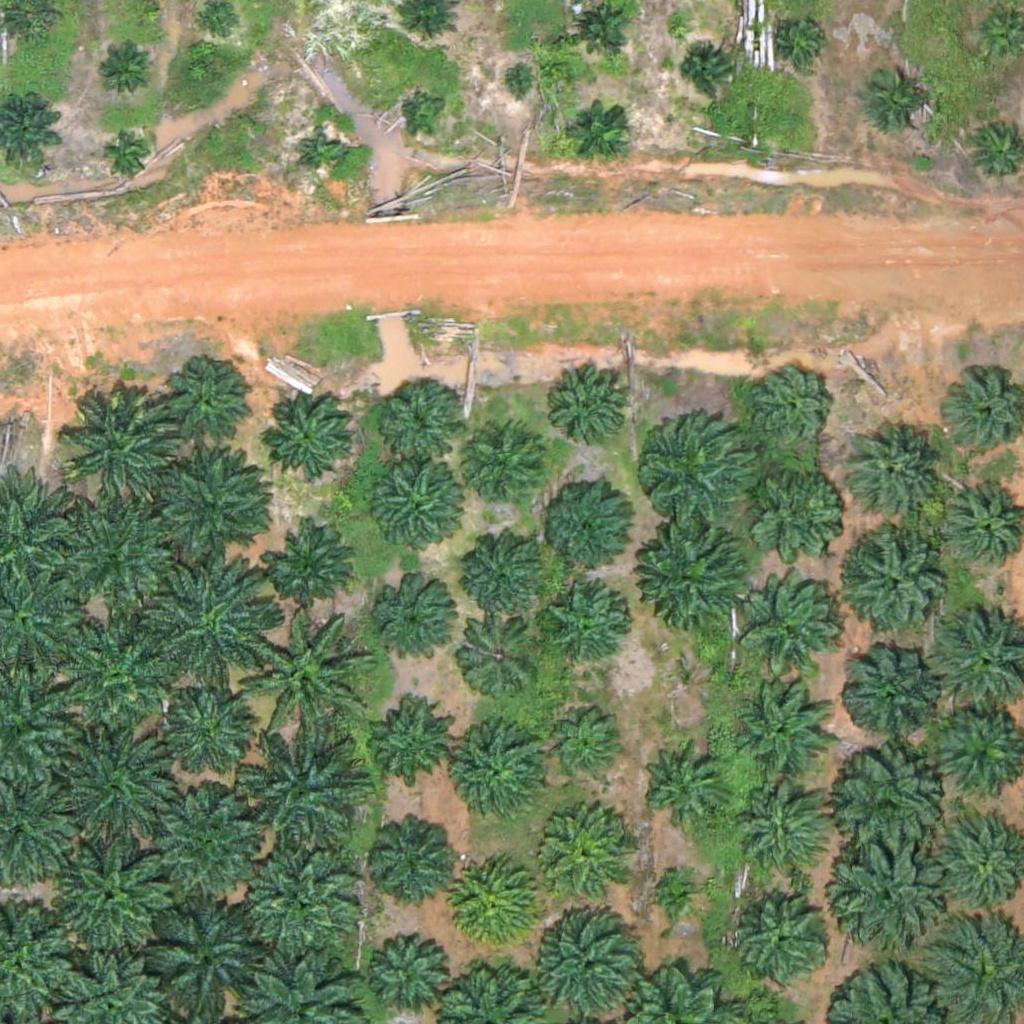Kelapa_Sawit: (60, 383, 185, 509), (52, 491, 177, 617), (57, 619, 182, 745), (57, 731, 182, 857), (51, 841, 176, 967), (142, 562, 267, 688), (142, 788, 267, 914), (139, 895, 264, 1021), (242, 731, 367, 857), (239, 615, 364, 741), (636, 409, 761, 535), (146, 441, 271, 566), (237, 834, 362, 959), (828, 841, 941, 954), (841, 530, 953, 643), (834, 749, 946, 862), (843, 422, 943, 523), (735, 889, 835, 990), (735, 785, 835, 886), (730, 679, 830, 780), (745, 576, 845, 677), (648, 527, 748, 628), (839, 642, 939, 742), (452, 727, 552, 827), (749, 454, 849, 554), (167, 687, 255, 775), (370, 466, 458, 554), (375, 581, 463, 669), (363, 693, 451, 781), (367, 810, 455, 898), (453, 858, 541, 946), (539, 816, 627, 904), (267, 519, 354, 608), (541, 482, 628, 571), (373, 374, 460, 462), (460, 528, 547, 616), (164, 364, 251, 452), (262, 390, 349, 478), (366, 929, 453, 1017), (455, 609, 542, 697), (463, 420, 550, 508), (549, 363, 636, 451), (546, 590, 633, 678), (750, 367, 837, 455), (640, 740, 727, 828), (860, 61, 935, 137), (551, 706, 626, 781), (571, 98, 634, 161), (403, 86, 453, 137), (297, 128, 347, 179), (98, 48, 148, 98), (680, 48, 730, 98), (780, 15, 830, 65), (653, 865, 703, 915), (104, 129, 154, 179), (498, 64, 536, 102)
